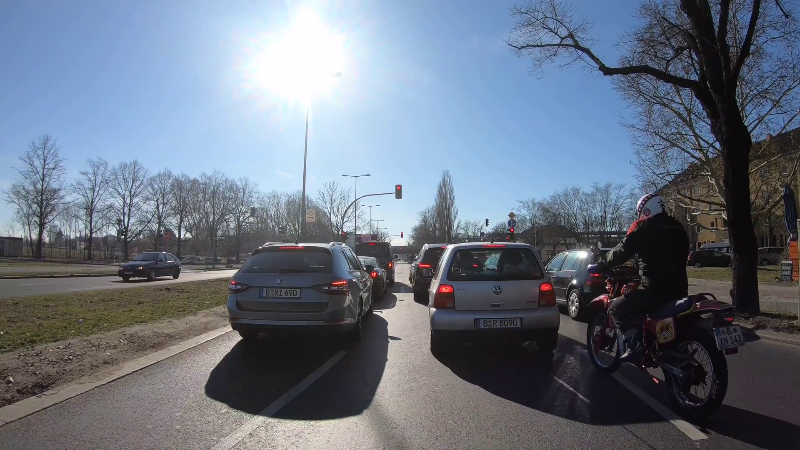Plate: (472, 316, 524, 329), (257, 285, 302, 300)
